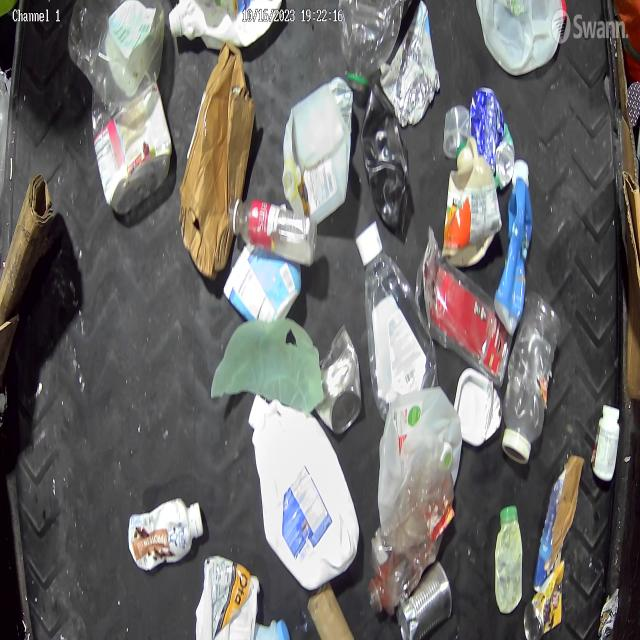can: (314, 324, 364, 436), (469, 85, 516, 194), (395, 558, 453, 640), (522, 556, 565, 640), (597, 586, 619, 640)
milk_jug: (247, 392, 361, 592), (377, 383, 463, 529), (280, 82, 352, 227), (475, 0, 568, 78)
plastic_bottle: (501, 288, 563, 466), (336, 0, 404, 95)
